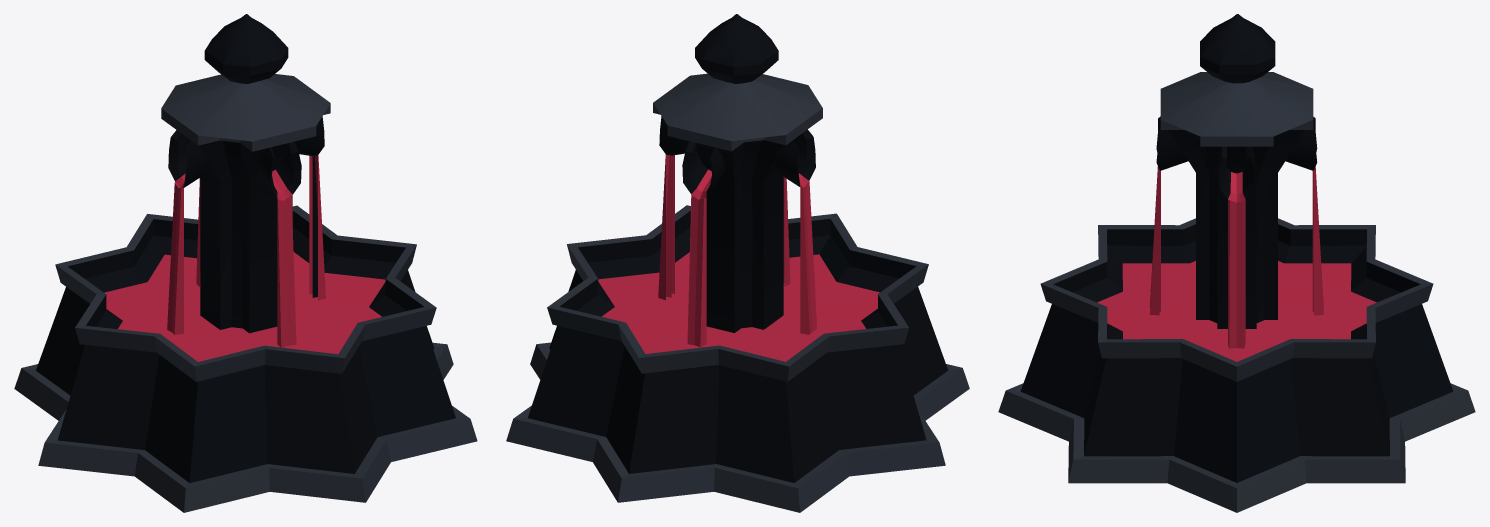
File: Fontaine.fbx
The picture shows the model from 3 angles, left to right: view 1: azimuth 30°, elevation 25°; view 2: azimuth 150°, elevation 25°; view 3: azimuth 270°, elevation 25°; orthographic projection.
Visible parts, largest first — view 1: Cube.001; view 2: Cube.001; view 3: Cube.001.
Part boxes in pixels (x1,y1,x2,y2): Cube.001: (14,14,477,512); Cube.001: (506,14,969,512); Cube.001: (998,14,1475,512).
Bounding box in the file's own units: 428 × 394 × 428.
